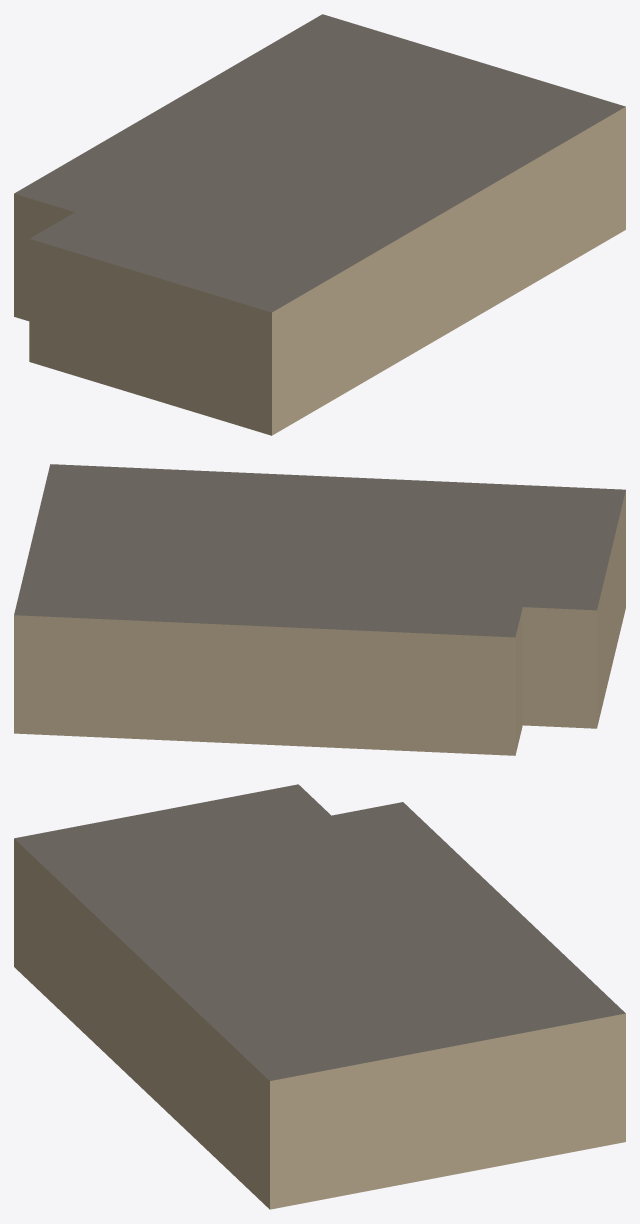
The picture shows the model from 3 angles, top to bottom: view 1: azimuth 30°, elevation 25°; view 2: azimuth 150°, elevation 25°; view 3: azimuth 270°, elevation 25°; orthographic projection. The views are drawn at different scales.
Parts seen in each view (by area): view 1: HP-w538432106; view 2: HP-w538432106; view 3: HP-w538432106.
Part boxes in pixels (<box>): HP-w538432106: <box>14,14,625,435</box>; HP-w538432106: <box>14,464,625,755</box>; HP-w538432106: <box>14,784,625,1209</box>.
Bounding box in the file's own units: 98.04 × 19.8 × 85.42.
